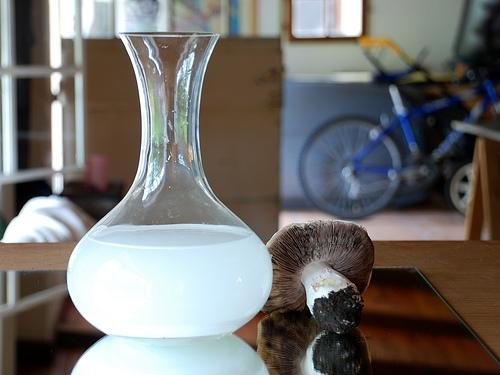mushroom: (261, 218, 375, 332), (256, 306, 373, 375)
